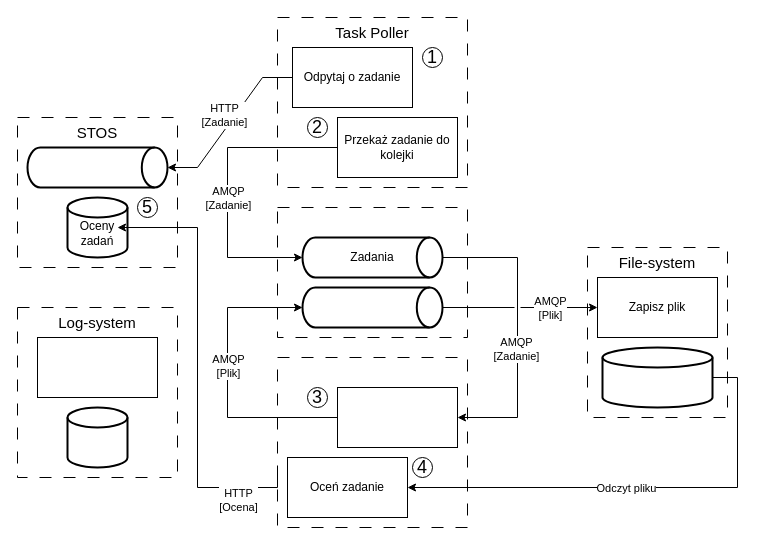
This 763x545 diagram has some shape labels left out. Each missing label, with the box of its shape:
Atrapy Zadań: (26, 146, 168, 188)
Logi: (66, 406, 128, 468)
Pliki: (301, 286, 443, 328)
Pobierz zadanie: (336, 386, 458, 448)
RabbitMQ: (276, 206, 468, 338)
Tymczasowe pliki: (601, 346, 713, 408)
Wizualizuj logi: (36, 336, 158, 398)
Worker: (276, 356, 468, 528)
